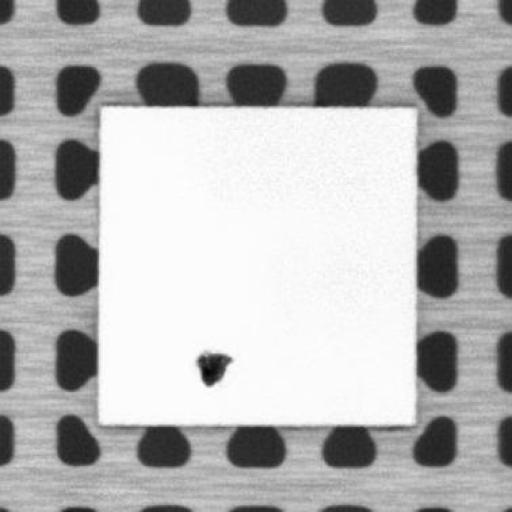DIE_INK: (194, 346, 233, 388)
